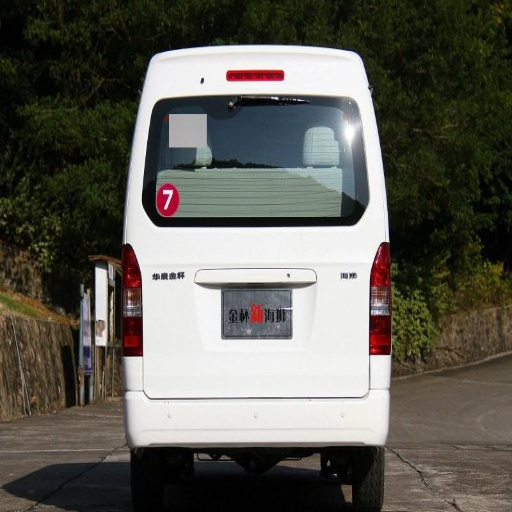back_bumper: (123, 356, 390, 447)
tailgate: (182, 190, 359, 270)
trunk: (133, 228, 377, 398)
